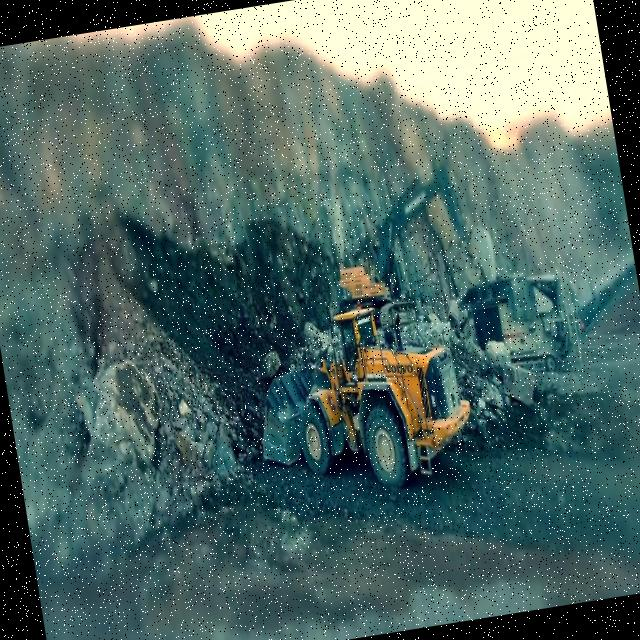Excavator: (320, 158, 500, 309)
Loader: (238, 279, 484, 512)
